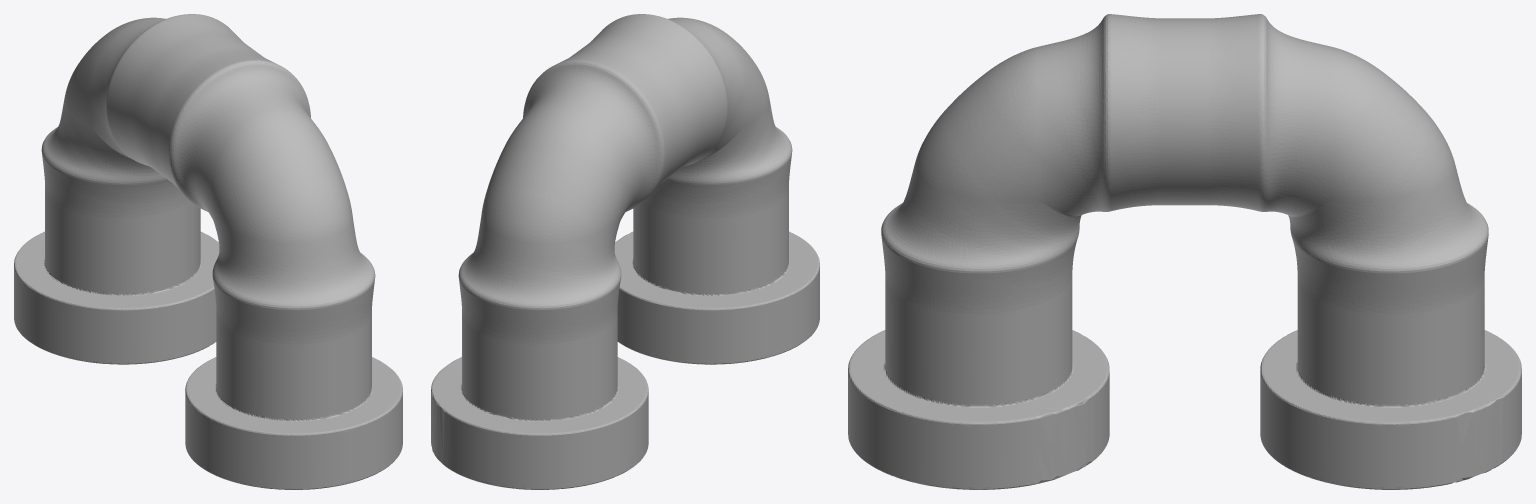
File: Pipe6.fbx
The picture shows the model from 3 angles, left to right: view 1: azimuth 30°, elevation 25°; view 2: azimuth 150°, elevation 25°; view 3: azimuth 270°, elevation 25°; orthographic projection. The views are drawn at different scales.
Parts seen in each view (by area): view 1: Pipe6; view 2: Pipe6; view 3: Pipe6.
Boxes of the visible parts, left/top/right/bottom form: Pipe6: left=14, top=14, right=402, bottom=489; Pipe6: left=431, top=14, right=819, bottom=489; Pipe6: left=848, top=14, right=1521, bottom=489.
Size of the model in its own units: 199 by 346 by 513.
